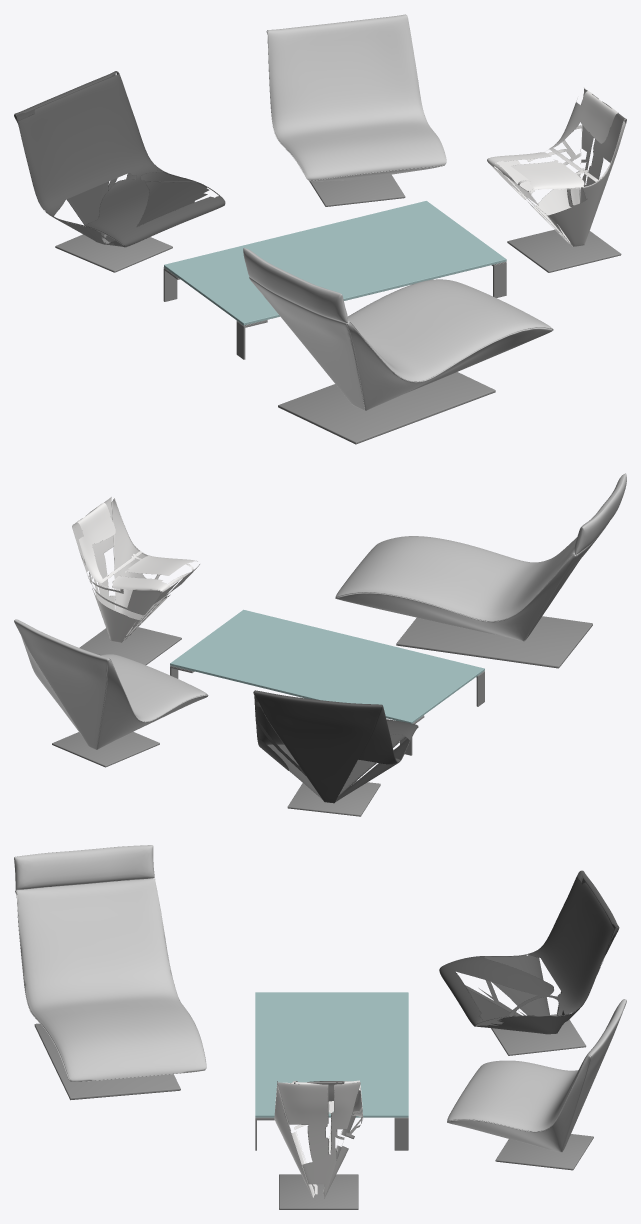
File: chair .fbx
3 views of the same model, one above another, from view 1: azimuth 30°, elevation 25°; view 2: azimuth 150°, elevation 25°; view 3: azimuth 270°, elevation 25° (orthographic). The views are drawn at different scales.
Visible parts, largest first — view 1: chair.002; view 2: chair.002; view 3: chair.002.
Part boxes in pixels (bbox=[...]): chair.002: bbox=[14, 14, 626, 444]; chair.002: bbox=[14, 473, 626, 816]; chair.002: bbox=[14, 845, 626, 1209].
Size of the model in its own units: 260 by 89.55 by 316.
